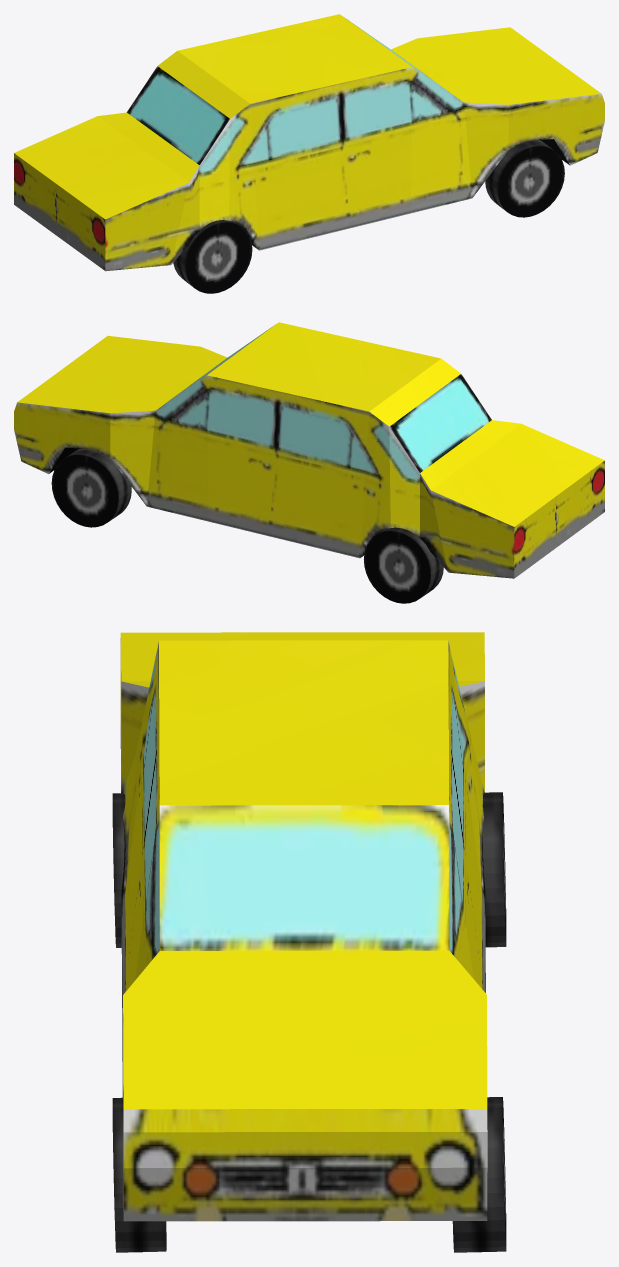
File: renault_torino.glb
3 renders of one model, top to bottom at view 1: azimuth 30°, elevation 25°; view 2: azimuth 150°, elevation 25°; view 3: azimuth 270°, elevation 25°, orthographic. The views are drawn at different scales.
Visible parts, largest first — view 1: Object_2; view 2: Object_2; view 3: Object_2.
Boxes of the visible parts, x1,y1,x2,y2 form: Object_2: (14, 14, 604, 293); Object_2: (14, 322, 604, 603); Object_2: (112, 632, 506, 1252).
Bounding box in the file's own units: 6.35 × 2.07 × 2.17.
Materials: 1 (1 with a texture image).
